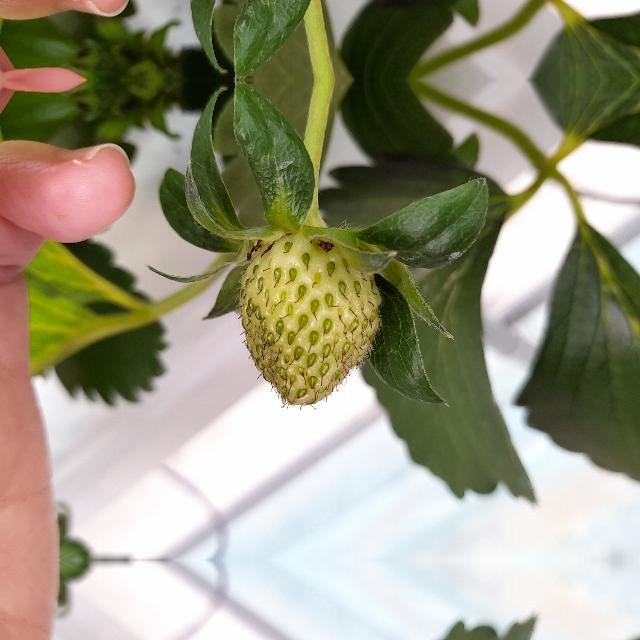Health_25: (234, 233, 384, 411)
